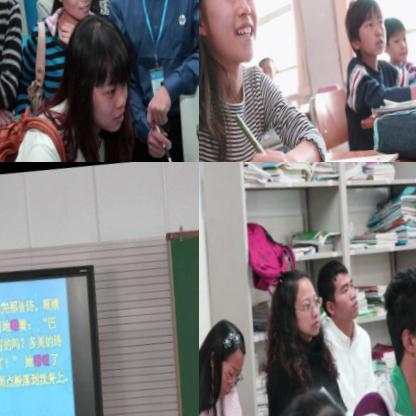head: (59, 5, 146, 137), (199, 0, 273, 77), (199, 313, 259, 405), (270, 257, 333, 340), (257, 374, 379, 416), (380, 255, 416, 380), (314, 249, 369, 324), (341, 0, 397, 64), (379, 12, 414, 63), (45, 0, 101, 19), (257, 49, 281, 86)
